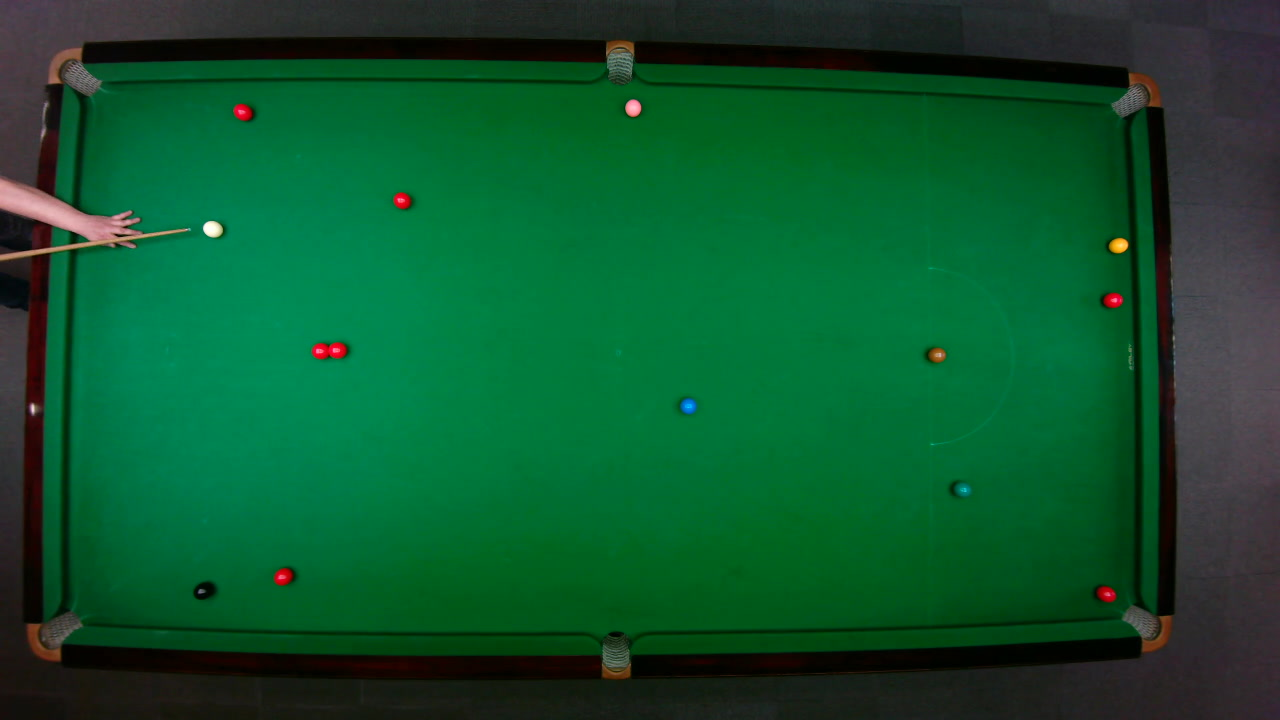bag: (25, 609, 84, 661), (45, 46, 102, 96), (1119, 603, 1172, 652), (1108, 71, 1161, 117), (600, 629, 630, 680), (605, 38, 633, 85)
black: (192, 581, 213, 600)
blue: (679, 396, 697, 414)
brown: (926, 346, 946, 362)
cue: (0, 225, 193, 264)
green: (951, 480, 972, 497)
pink: (623, 97, 642, 117)
red: (272, 566, 294, 585), (325, 340, 347, 359), (1094, 584, 1116, 602), (391, 190, 411, 209), (232, 102, 253, 120), (1101, 291, 1123, 308), (310, 341, 330, 359)
white: (202, 219, 224, 238)
yellow: (1107, 236, 1129, 253)
zone: (927, 266, 1013, 445)
